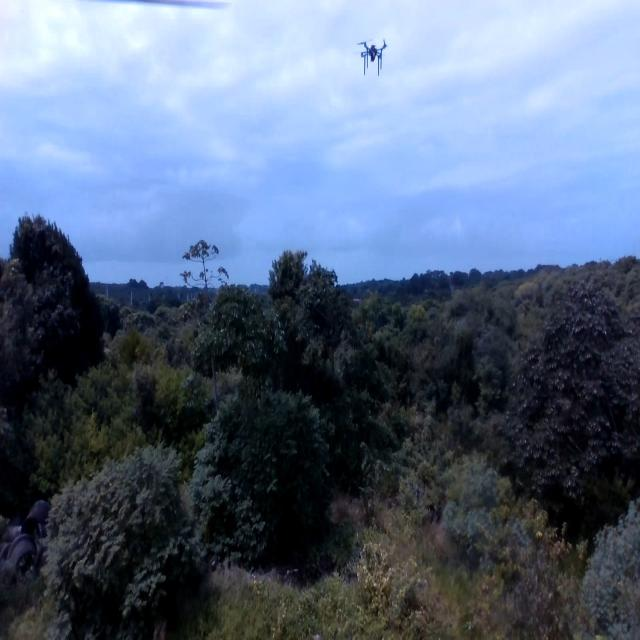-uav-: (351, 26, 393, 87)
